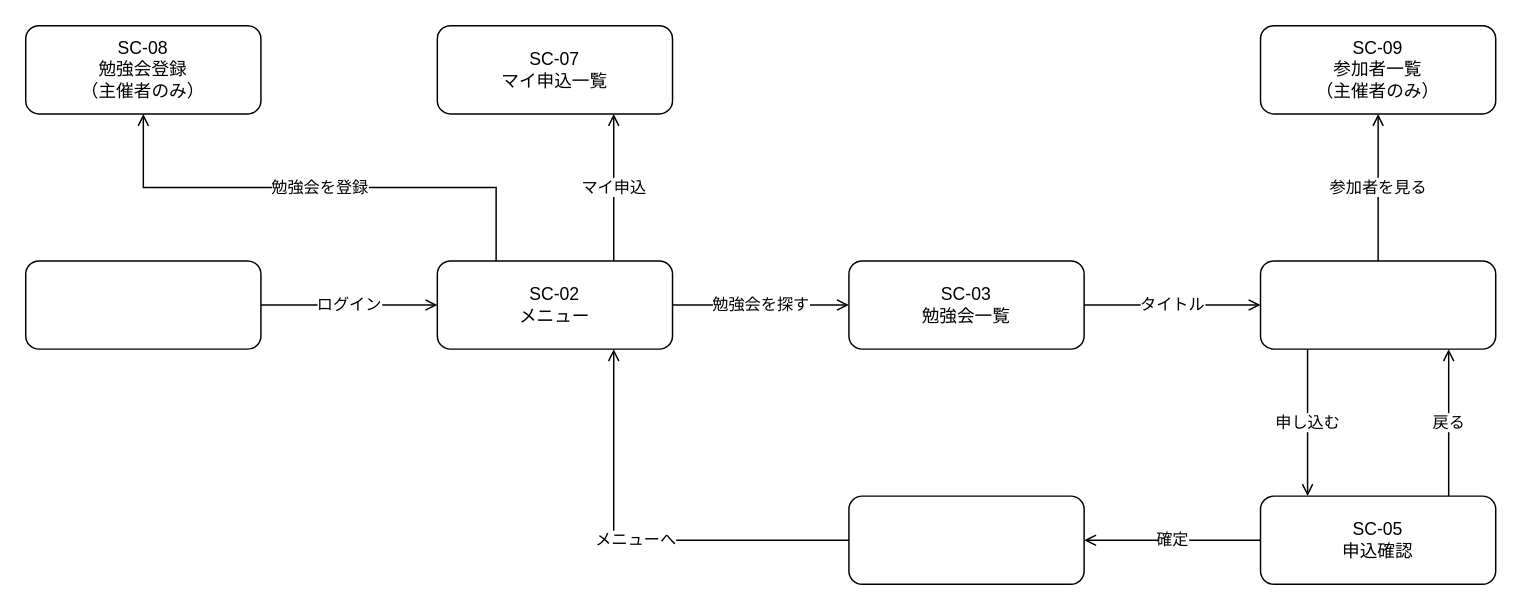
Image size: 1521x610. Some labels were removed from this diagram. Here are the shapes that lost their labels. From the top down, the centre of each, then its label:
At point 142,304: "SC-01 ログイン".
At point 1377,304: "SC-04 勉強会詳細".
At point 965,539: "SC-06 申込完了".
